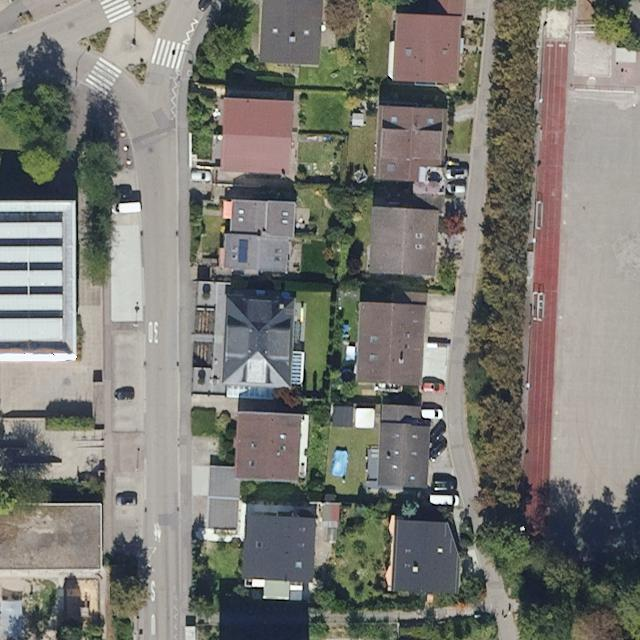PV: (2, 208, 68, 324), (237, 235, 252, 264)
